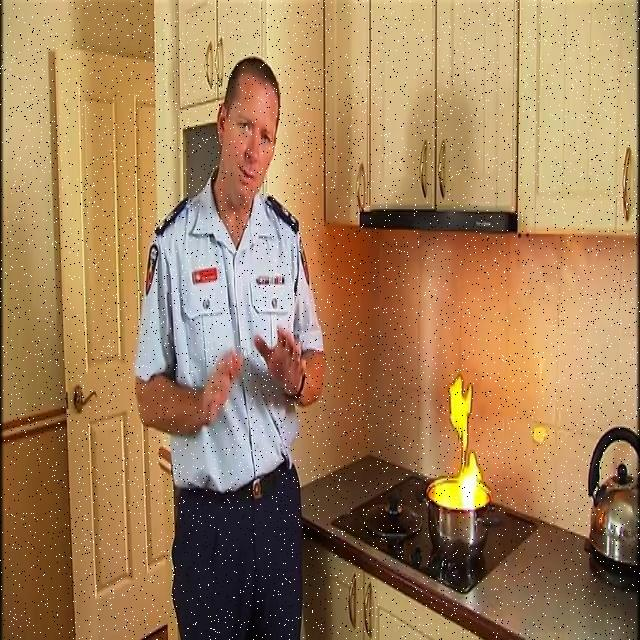fire: (432, 367, 494, 535)
